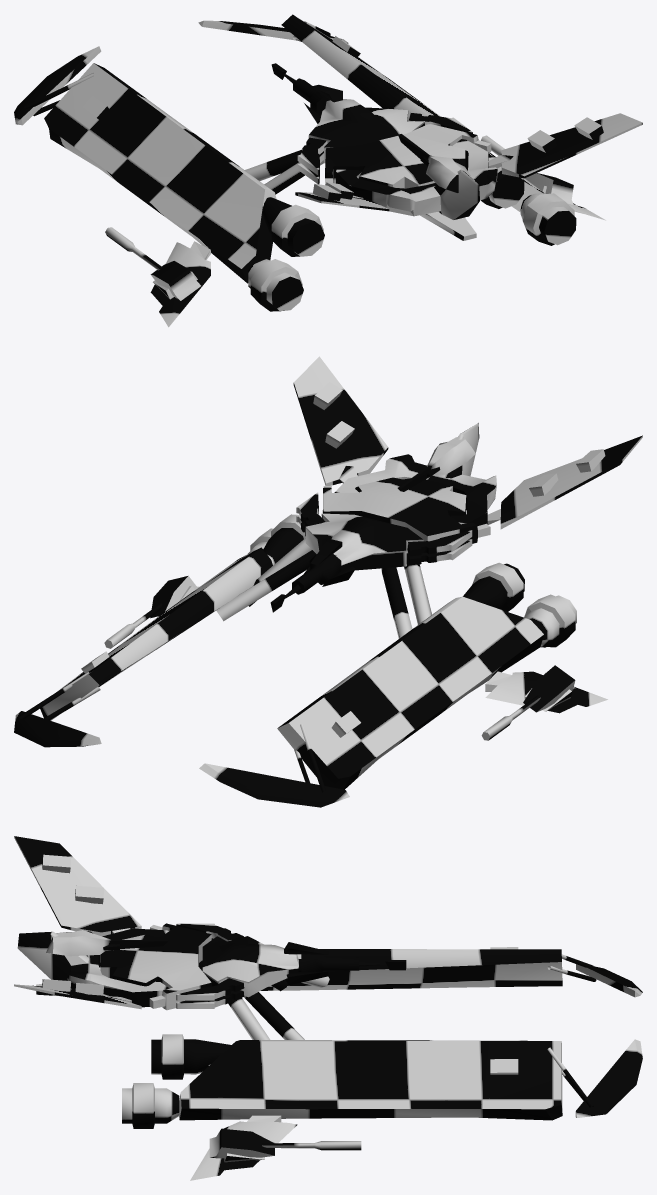
The model's file is goliath_solace.obj.
3 views of the same model, one above another, from view 1: azimuth 30°, elevation 25°; view 2: azimuth 150°, elevation 25°; view 3: azimuth 270°, elevation 25° (orthographic). The views are drawn at different scales.
Visible parts, largest first — view 1: main; view 2: main; view 3: main.
Part boxes in pixels (x1,y1,x2,y2): main: [14, 14, 642, 327]; main: [14, 356, 642, 807]; main: [14, 836, 642, 1180].
Size of the model in its own units: 108 by 42.63 by 143.
1 material, 1 textured.
